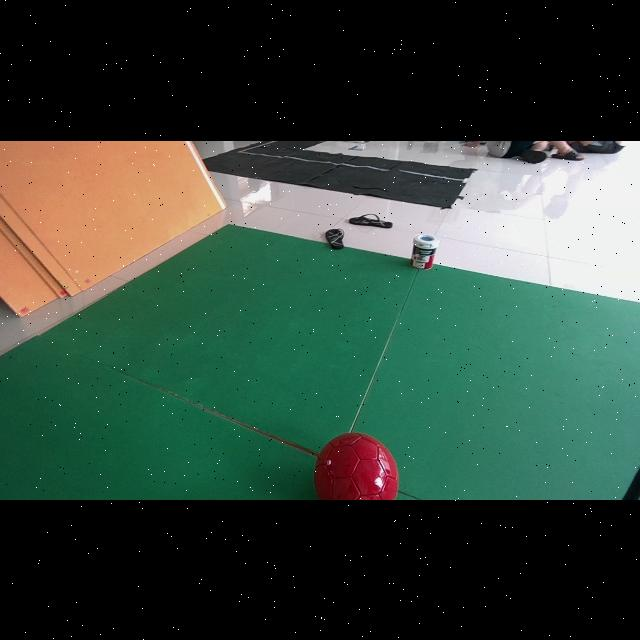R: (315, 433, 398, 500)
